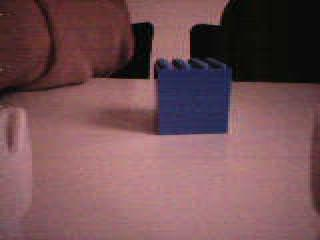legocube: (150, 56, 234, 136)
